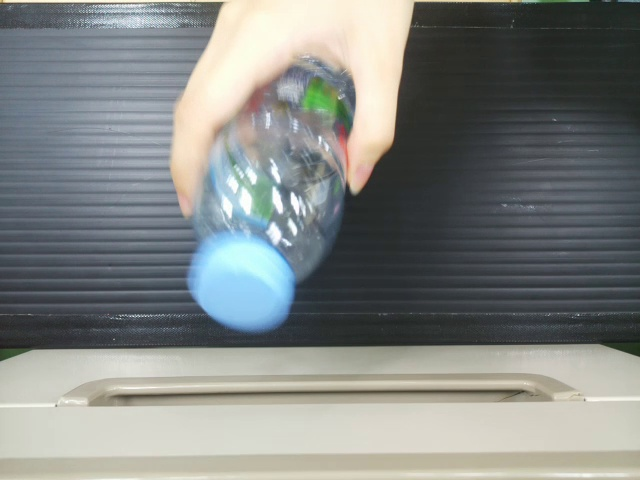bottle: (186, 56, 354, 338)
